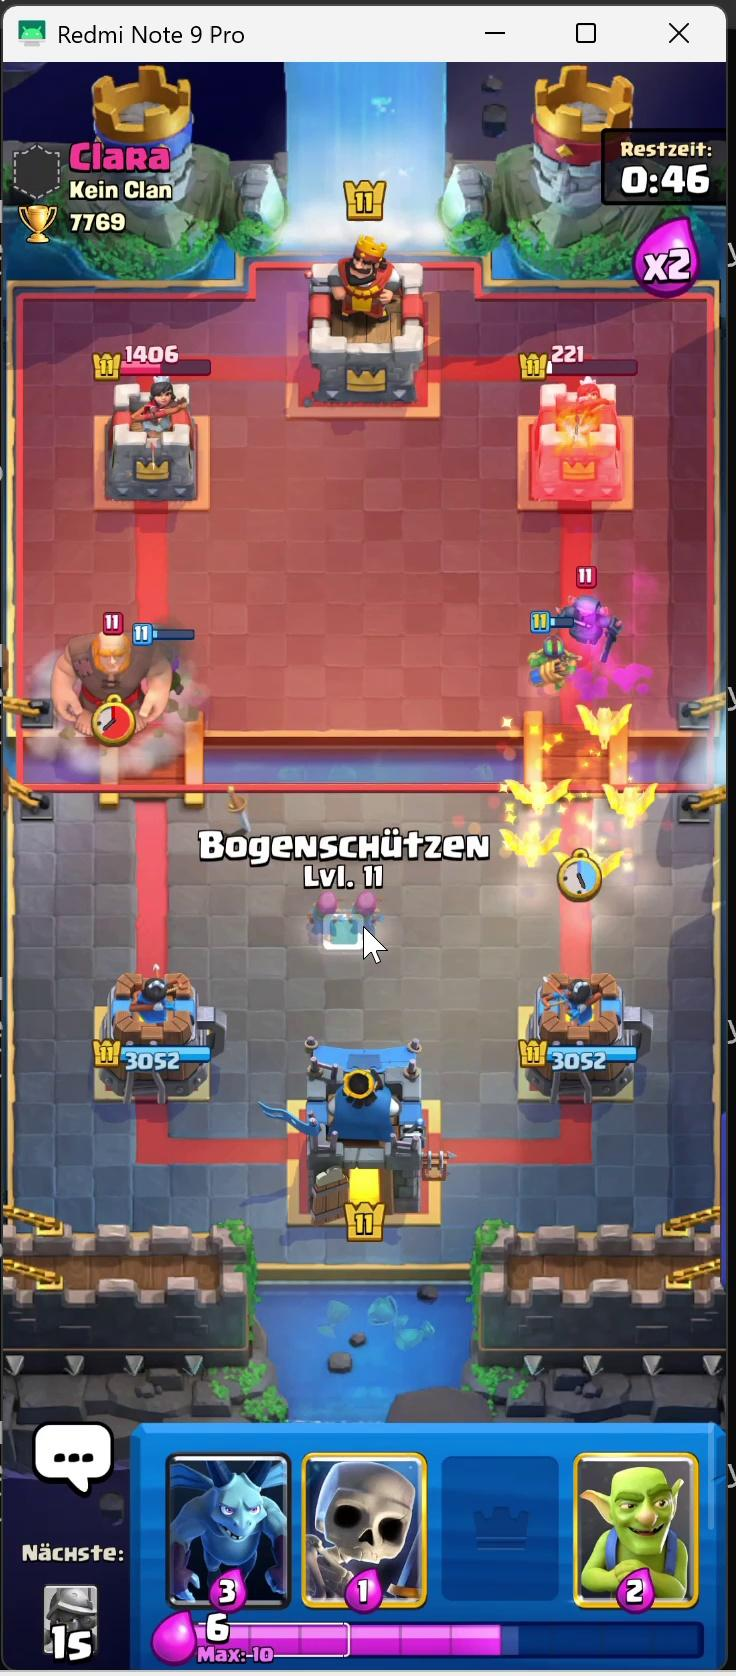archere: (303, 885, 342, 946), (353, 886, 389, 943)
bat: (561, 845, 625, 895), (609, 783, 668, 835), (589, 703, 625, 755), (520, 774, 561, 817), (514, 825, 550, 863)
geant: (58, 632, 161, 743)
gobelin_lances: (541, 637, 569, 681)
mini_PEKKA: (554, 584, 617, 651)
mousquetaire: (141, 631, 191, 715)
